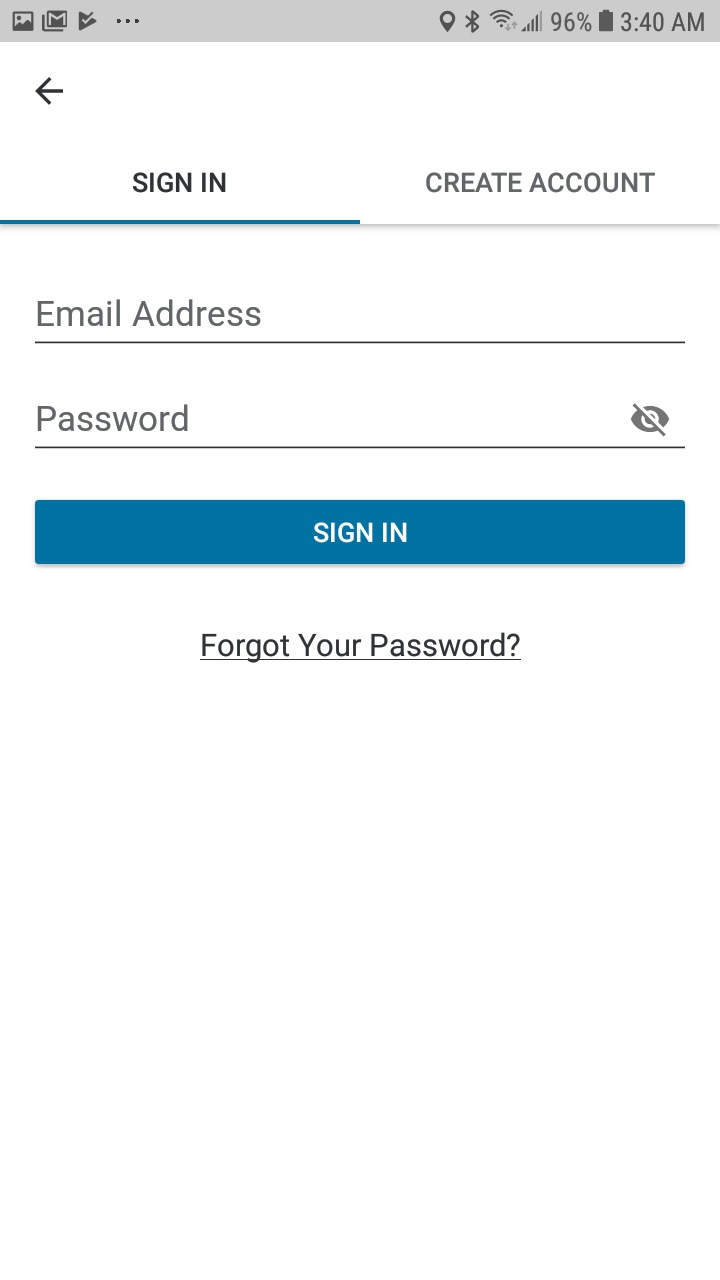EditText: (36, 299, 686, 345), (36, 404, 686, 450)
Icon: (630, 403, 670, 438), (36, 77, 65, 106)
Text: (200, 632, 522, 664), (38, 299, 262, 328), (426, 172, 656, 194), (38, 404, 189, 433), (133, 170, 225, 193)
TextButton: (36, 500, 686, 565)
UpperTaskBar: (1, 1, 720, 43)
